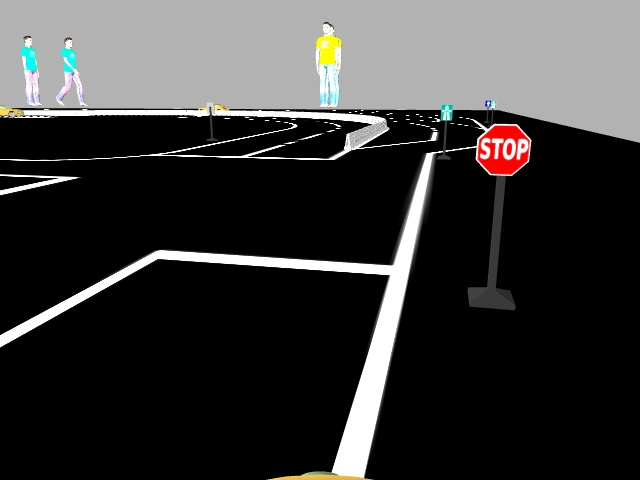Stop: (473, 123, 531, 175)
